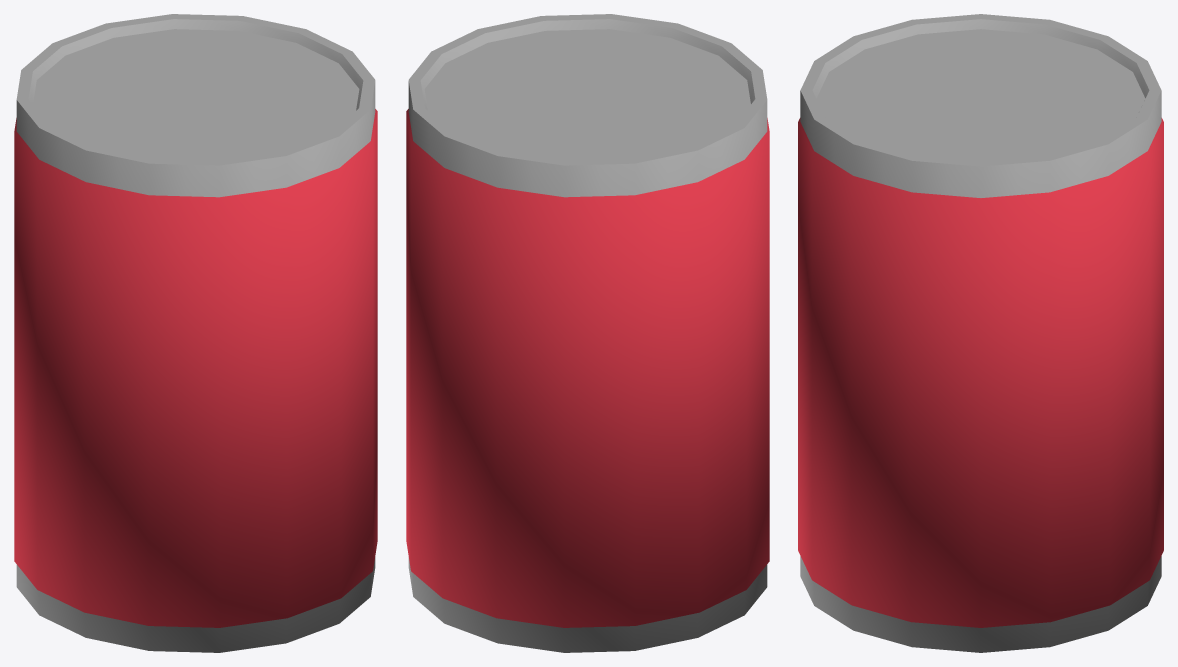
File: soup.fbx
3 renders of one model, left to right at view 1: azimuth 30°, elevation 25°; view 2: azimuth 150°, elevation 25°; view 3: azimuth 270°, elevation 25°, orthographic.
Visible parts, largest first — view 1: Cylinder.001, Cylinder; view 2: Cylinder.001, Cylinder; view 3: Cylinder.001, Cylinder.
Part boxes in pixels (x1,y1,x2,y2): Cylinder.001: (14, 109, 377, 627); Cylinder: (16, 14, 375, 652); Cylinder.001: (406, 109, 769, 627); Cylinder: (408, 14, 767, 652); Cylinder.001: (798, 118, 1163, 627); Cylinder: (800, 14, 1161, 652).
Bounding box in the file's own units: 203 × 297 × 203.
